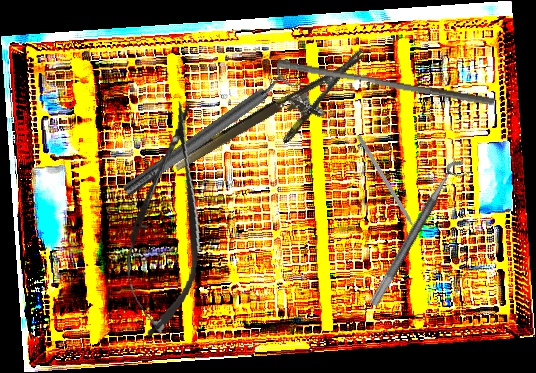Chopper: (350, 134, 424, 245)
Fixation Ring: (114, 56, 307, 205), (368, 156, 474, 314)
Micro Scissor: (114, 95, 221, 342)
Needle Holder: (170, 48, 384, 198)
Pusher: (275, 58, 497, 107)
